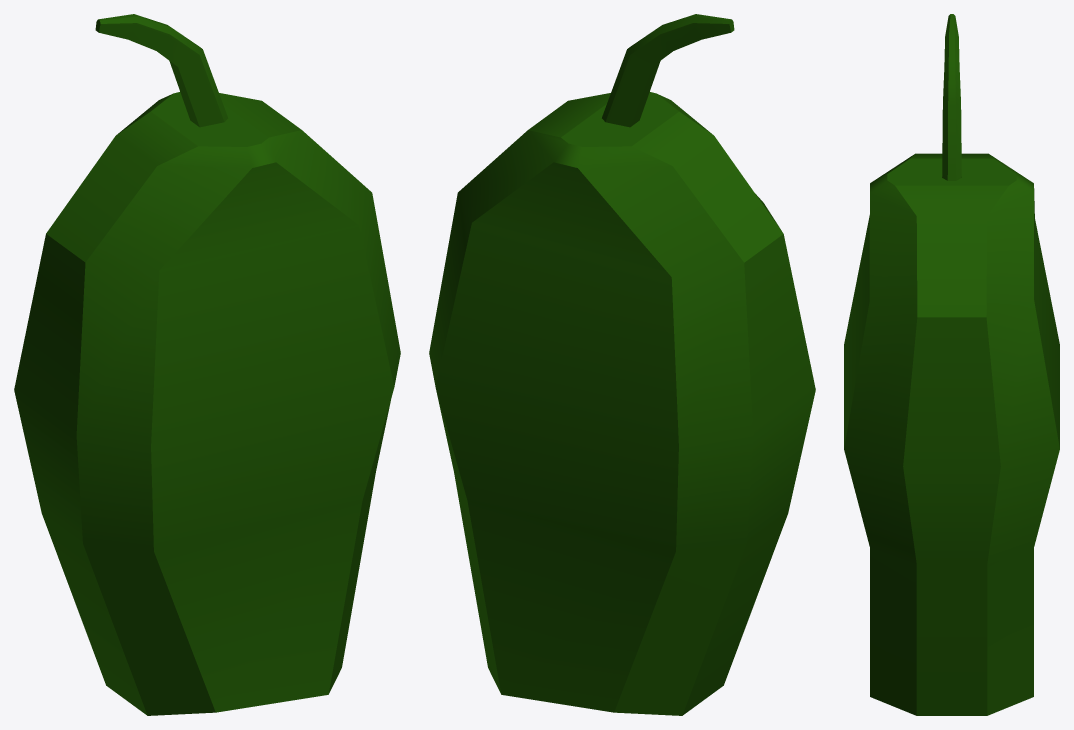
The model's file is JalapenoSliced.fbx.
3 renders of one model, left to right at view 1: azimuth 30°, elevation 25°; view 2: azimuth 150°, elevation 25°; view 3: azimuth 270°, elevation 25°, orthographic. The views are drawn at different scales.
Visible parts, largest first — view 1: JalapenoSliced; view 2: JalapenoSliced; view 3: JalapenoSliced.
Boxes of the visible parts, box(x1,y1,x2,y2) form: JalapenoSliced: box(14, 14, 400, 715); JalapenoSliced: box(429, 14, 815, 715); JalapenoSliced: box(844, 14, 1059, 715).
Size of the model in its own units: 7.79 by 15.63 by 5.05.
